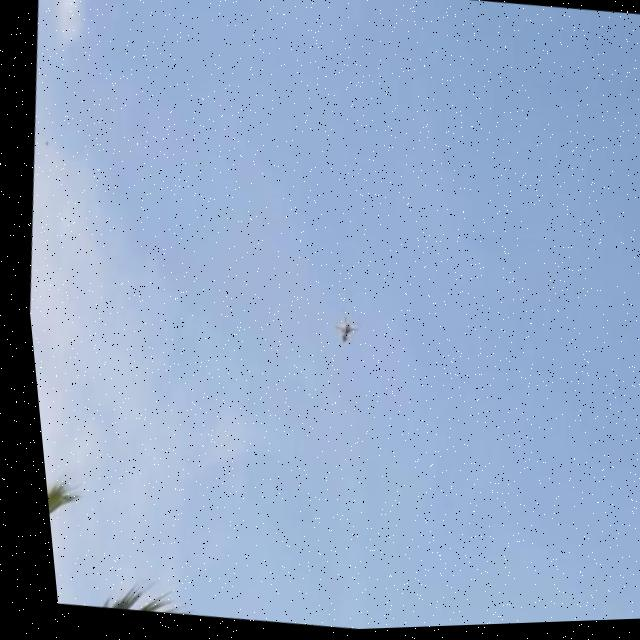drones: (323, 306, 352, 357)
